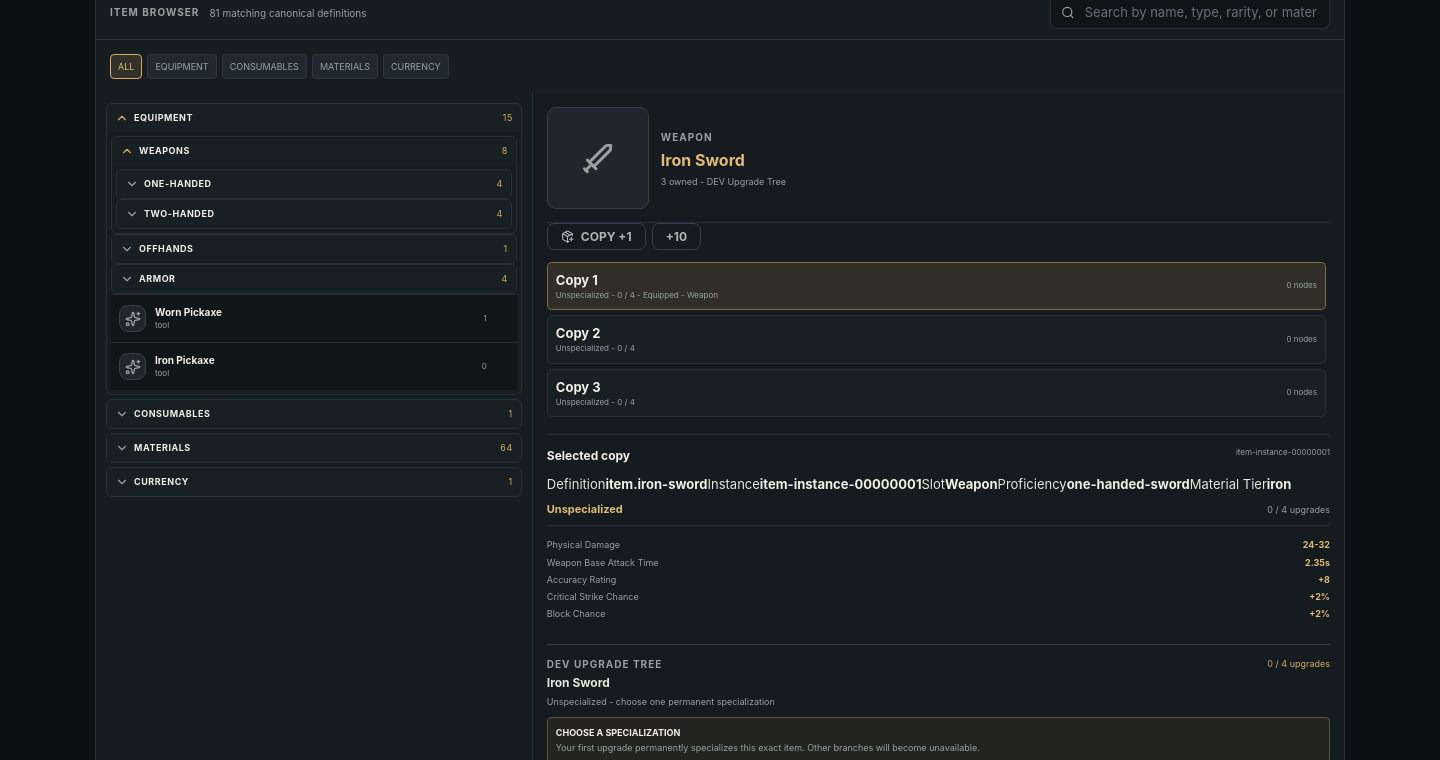
Phase 4 inventory and debug UI › confirms and deletes the selected exact copy
What coordinates should you click on to do the following:
click the button "Copy 2 Unspecialized - 0 / 4 0 nodes"
I would click on:
 (574, 333)
Its box is [547,315,1326,364].
(page scrolled)
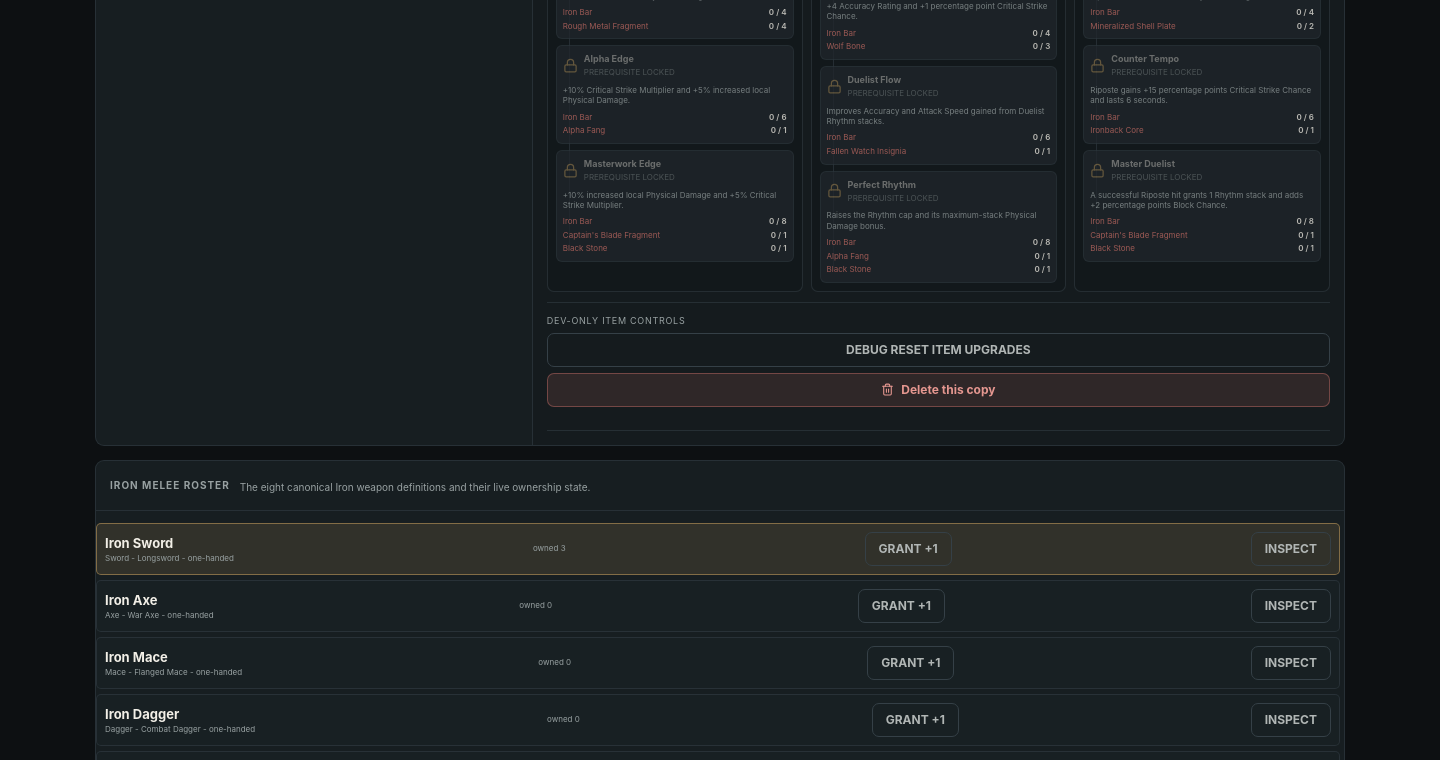
What coordinates should you click on to do the following:
click the button "Delete this copy"
I would click on:
 (938, 390)
Its box is [547,373,1330,407].
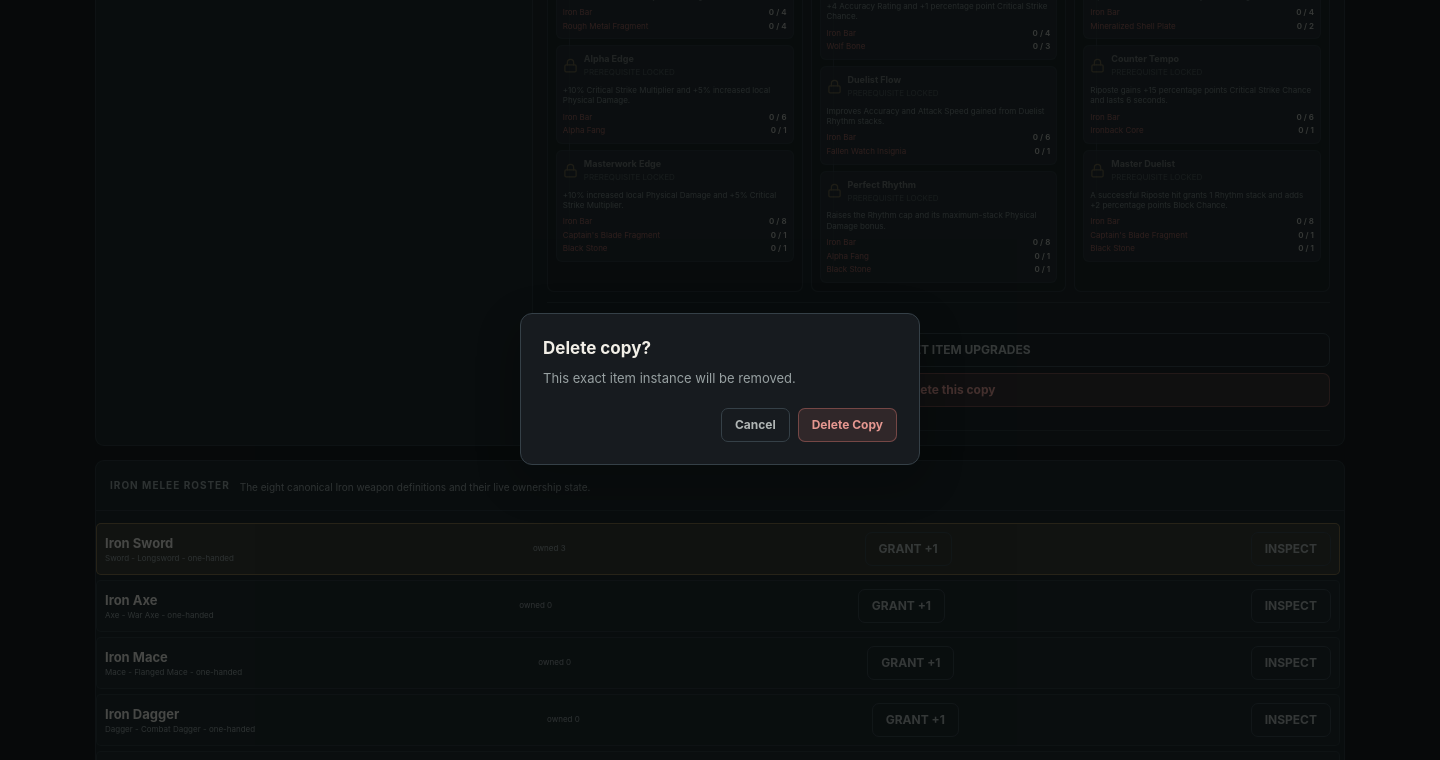
Expected: the dialog shows "Delete copy?", [543,338,651,358]
What coordinates should you click on to do the following:
click the button "Delete Copy"
I would click on:
 (847, 425)
Its box is [798,408,897,442].
(page scrolled)
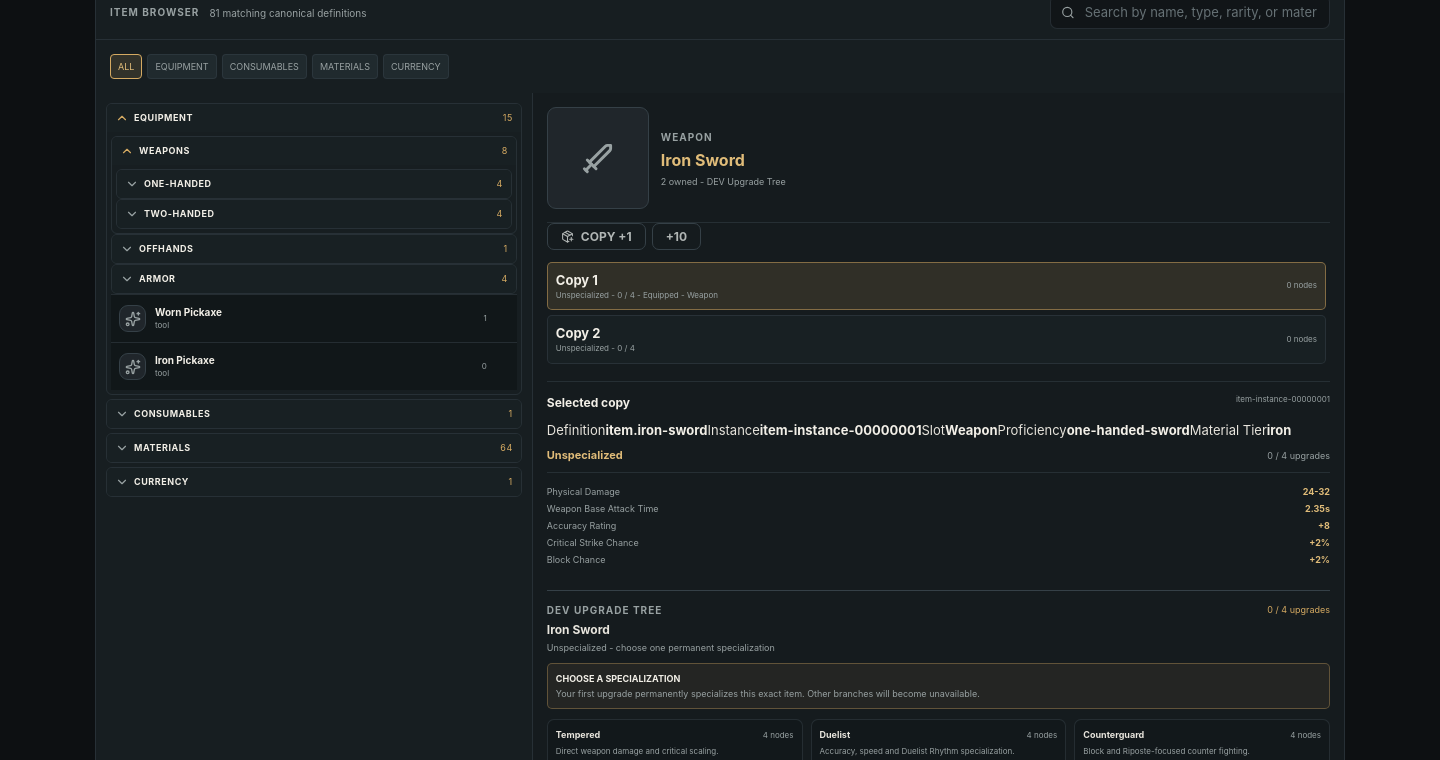
Expected: the text "2 owned - DEV Upgrade Tree" is shown, [661,176,786,188]
